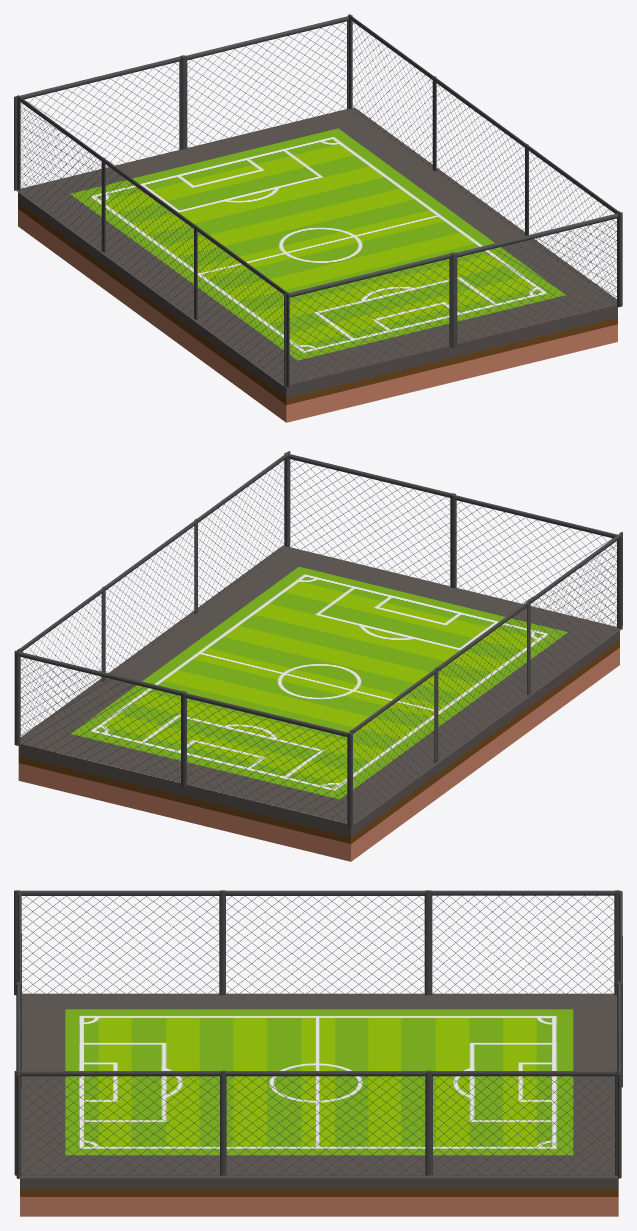
File: field2_1.glb
The picture shows the model from 3 angles, top to bottom: view 1: azimuth 30°, elevation 25°; view 2: azimuth 150°, elevation 25°; view 3: azimuth 270°, elevation 25°; orthographic projection. The views are drawn at different scales.
Visible parts, largest first — view 1: Cube, Cube_football_field_0.001, Null_2_1__0.002, Null_2_1__0.003, Null_2_1__0.004, Null_2_1__0.005, Null_1_1, Null_0_1__0.001, Null_1_1__0.001, Null_0_1, Null_2_1__0.001, Null_2_1; view 2: Cube, Cube_football_field_0.001, Null_2_1__0.005, Null_2_1__0.004, Null_2_1__0.002, Null_2_1__0.003, Null_1_1, Null_1_1__0.001, Null_0_1, Null_0_1__0.001, Null_2_1__0.001, Null_2_1; view 3: Cube, Cube_football_field_0.001, Null_1_1, Null_1_1__0.001, Null_0_1__0.001, Null_0_1, Null_2_1__0.001, Null_2_1, Null_2_1__0.002, Null_2_1__0.003, Null_2_1__0.005, Null_2_1__0.004.
Boxes of the visible parts, x1,y1,x2,y2 form: Cube: (18, 109, 617, 422); Cube_football_field_0.001: (16, 107, 616, 386); Null_2_1__0.002: (181, 15, 352, 149); Null_2_1__0.003: (451, 212, 622, 347); Null_2_1__0.004: (284, 252, 454, 387); Null_2_1__0.005: (14, 55, 184, 190); Null_1_1: (433, 76, 528, 235); Null_0_1__0.001: (194, 225, 289, 387); Null_1_1__0.001: (102, 157, 197, 319); Null_0_1: (525, 143, 620, 306); Null_2_1__0.001: (17, 95, 104, 250); Null_2_1: (348, 14, 433, 169); Cube: (18, 547, 619, 861); Cube_football_field_0.001: (14, 545, 622, 824); Null_2_1__0.005: (181, 692, 352, 827); Null_2_1__0.004: (451, 494, 622, 629); Null_2_1__0.002: (14, 650, 186, 784); Null_2_1__0.003: (284, 452, 455, 586); Null_1_1: (102, 519, 197, 681); Null_1_1__0.001: (434, 600, 530, 761); Null_0_1: (194, 451, 290, 610); Null_0_1__0.001: (527, 532, 622, 691); Null_2_1__0.001: (349, 669, 436, 821); Null_2_1: (17, 588, 103, 742); Cube: (20, 1009, 618, 1216); Cube_football_field_0.001: (20, 993, 617, 1178); Null_1_1: (221, 1070, 431, 1175); Null_1_1__0.001: (220, 890, 430, 995); Null_0_1__0.001: (14, 890, 225, 995); Null_0_1: (14, 1070, 225, 1175); Null_2_1__0.001: (428, 890, 620, 995); Null_2_1: (430, 1070, 620, 1175); Null_2_1__0.002: (617, 981, 621, 1178); Null_2_1__0.003: (16, 982, 20, 1178); Null_2_1__0.005: (619, 891, 622, 1087); Null_2_1__0.004: (18, 893, 21, 1085).
Bounding box in the file's own units: 351 × 129 × 488.
Materials: 7 (4 with a texture image).
